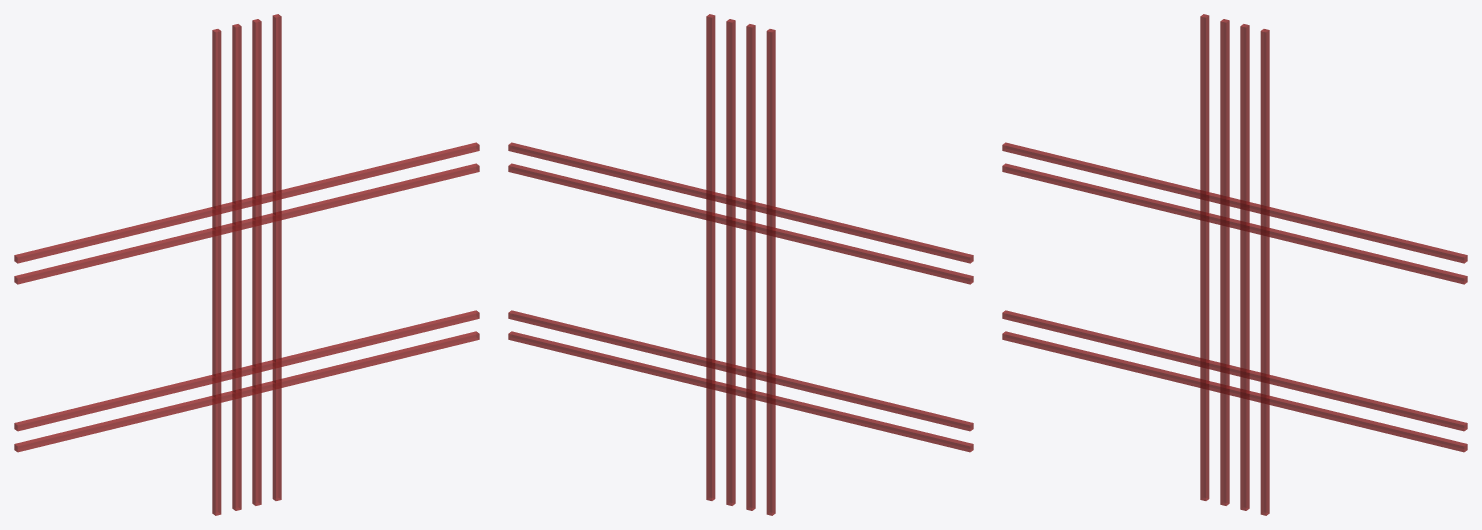
Rendered from Lvl_002.fbx.
3 renders of one model, left to right at view 1: azimuth 30°, elevation 25°; view 2: azimuth 150°, elevation 25°; view 3: azimuth 330°, elevation 25°, orthographic.
Parts seen in each view (by area): view 1: pCube7, pCube2, pCube8, pCube3, pCube12, pCube19, pCube20, pCube1; view 2: pCube7, pCube2, pCube8, pCube3, pCube20, pCube19, pCube12, pCube1; view 3: pCube2, pCube3, pCube7, pCube8, pCube19, pCube20, pCube1, pCube12.
Part boxes in pixels (x1,y1,x2,y2): pCube7: (232, 24, 241, 510); pCube2: (252, 19, 261, 505); pCube8: (212, 29, 221, 515); pCube3: (272, 14, 281, 500); pCube12: (14, 310, 479, 431); pCube19: (14, 163, 479, 284); pCube20: (14, 142, 479, 263); pCube1: (14, 331, 479, 452); pCube7: (746, 24, 755, 510); pCube2: (726, 19, 735, 505); pCube8: (766, 29, 775, 515); pCube3: (706, 14, 715, 500); pCube20: (508, 142, 973, 263); pCube19: (508, 163, 973, 284); pCube12: (508, 310, 973, 431); pCube1: (508, 331, 973, 452); pCube2: (1240, 24, 1249, 510); pCube3: (1260, 29, 1269, 515); pCube7: (1220, 19, 1229, 505); pCube8: (1200, 14, 1209, 500); pCube19: (1002, 163, 1467, 284); pCube20: (1002, 142, 1467, 263); pCube1: (1002, 331, 1467, 452); pCube12: (1002, 310, 1467, 431).
Bounding box in the file's own units: 2000 × 2000 × 25.
